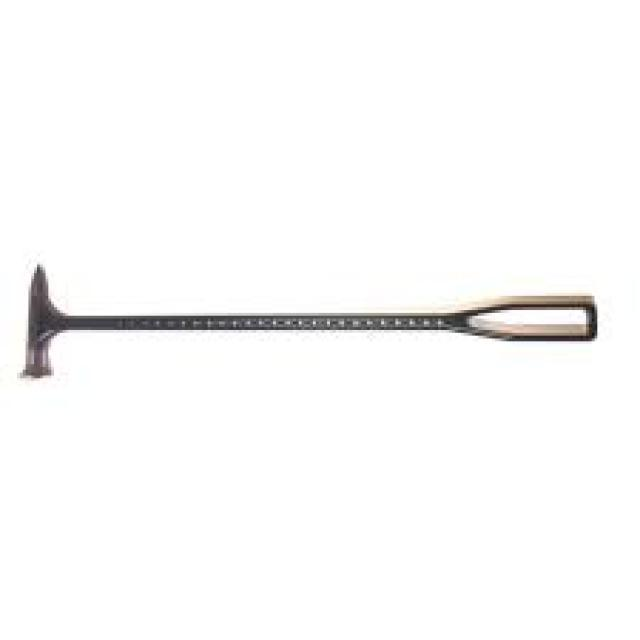Palu: (8, 254, 607, 396)
